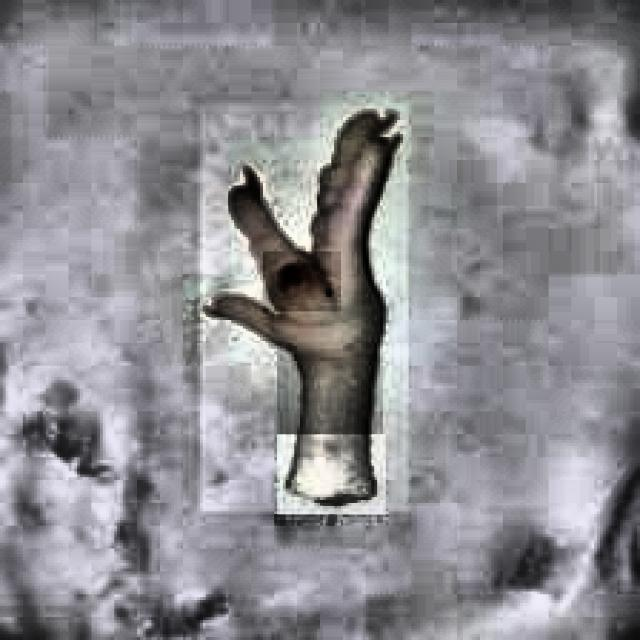Bumble foot: (200, 103, 406, 508), (260, 248, 337, 308), (271, 260, 306, 294)
